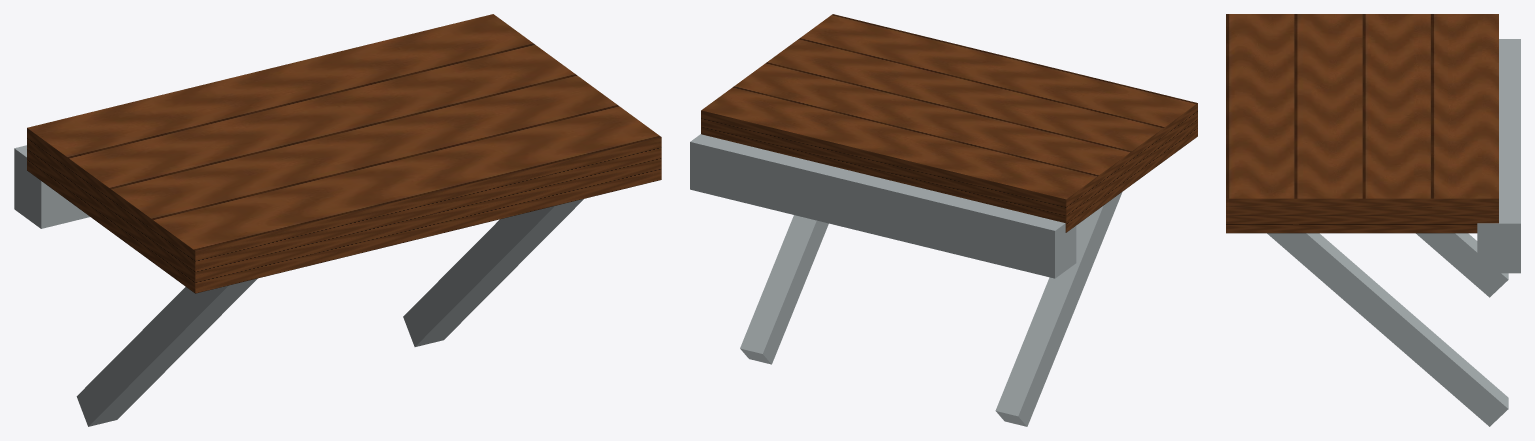
The model's file is suburban-outbreak-interiors-balcony-foldout-table-b6b78a2c__20016.glb.
The picture shows the model from 3 angles, left to right: view 1: azimuth 30°, elevation 25°; view 2: azimuth 150°, elevation 25°; view 3: azimuth 270°, elevation 25°; orthographic projection. The views are drawn at different scales.
Parts seen in each view (by area): view 1: balcony-foldout-table; view 2: balcony-foldout-table; view 3: balcony-foldout-table.
Part boxes in pixels (x1,y1,x2,y2): balcony-foldout-table: [14, 14, 661, 426]; balcony-foldout-table: [690, 14, 1197, 426]; balcony-foldout-table: [1226, 14, 1520, 426].
Bounding box in the file's own units: 0.8012 × 0.5055 × 0.54.
2 materials, 1 textured.
